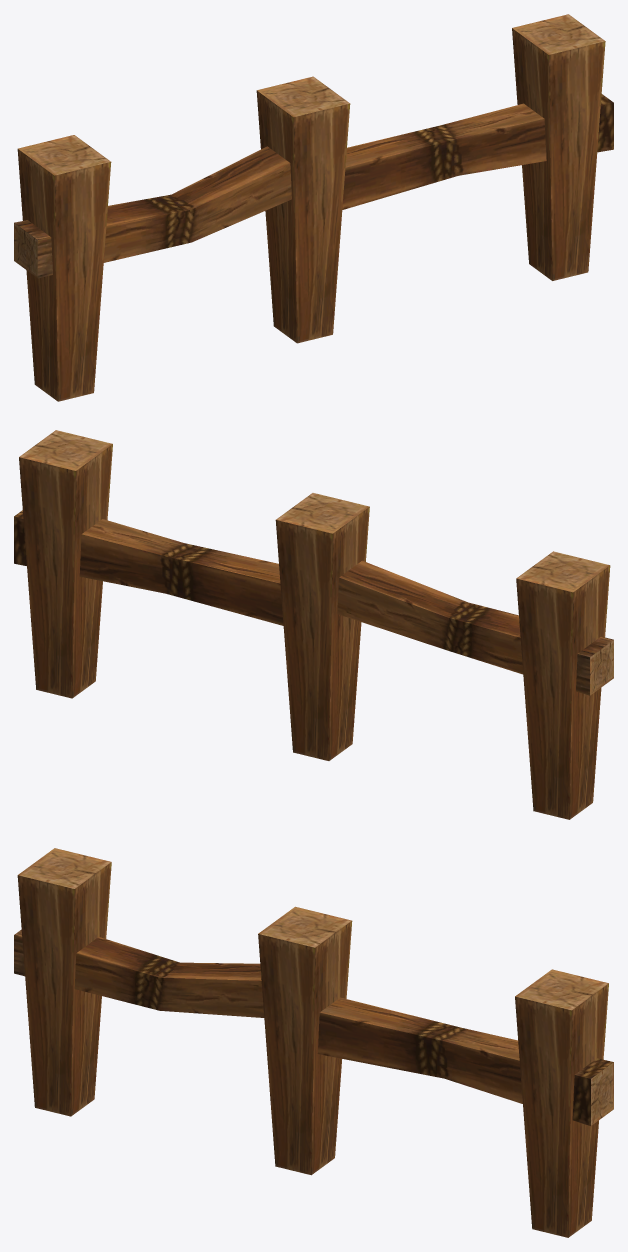
The model's file is environment_common_muzhalan_001_a.FBX.
The picture shows the model from 3 angles, top to bottom: view 1: azimuth 30°, elevation 25°; view 2: azimuth 150°, elevation 25°; view 3: azimuth 330°, elevation 25°; orthographic projection.
Parts seen in each view (by area): view 1: environment_common_muzhalan_001_a; view 2: environment_common_muzhalan_001_a; view 3: environment_common_muzhalan_001_a.
Part boxes in pixels (x1,y1,x2,y2): environment_common_muzhalan_001_a: (14, 14, 613, 401); environment_common_muzhalan_001_a: (14, 430, 613, 819); environment_common_muzhalan_001_a: (14, 848, 613, 1237).
Size of the model in its own units: 239 by 92.8 by 26.57.
